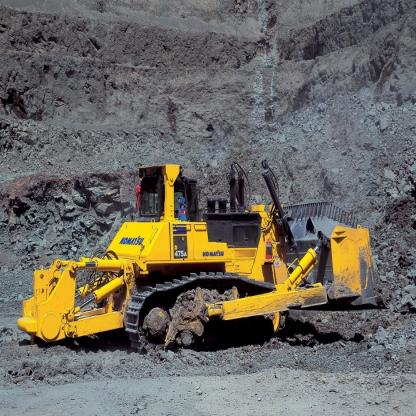bull_dozer/loader/grader: (23, 146, 392, 354)
